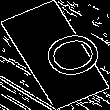O_SW: (15, 24, 95, 86)
